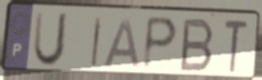A: (102, 16, 142, 69)
B: (177, 17, 216, 73)
I: (89, 14, 105, 68)
P: (140, 13, 180, 73)
T: (222, 18, 251, 75)
U: (31, 10, 71, 70)
